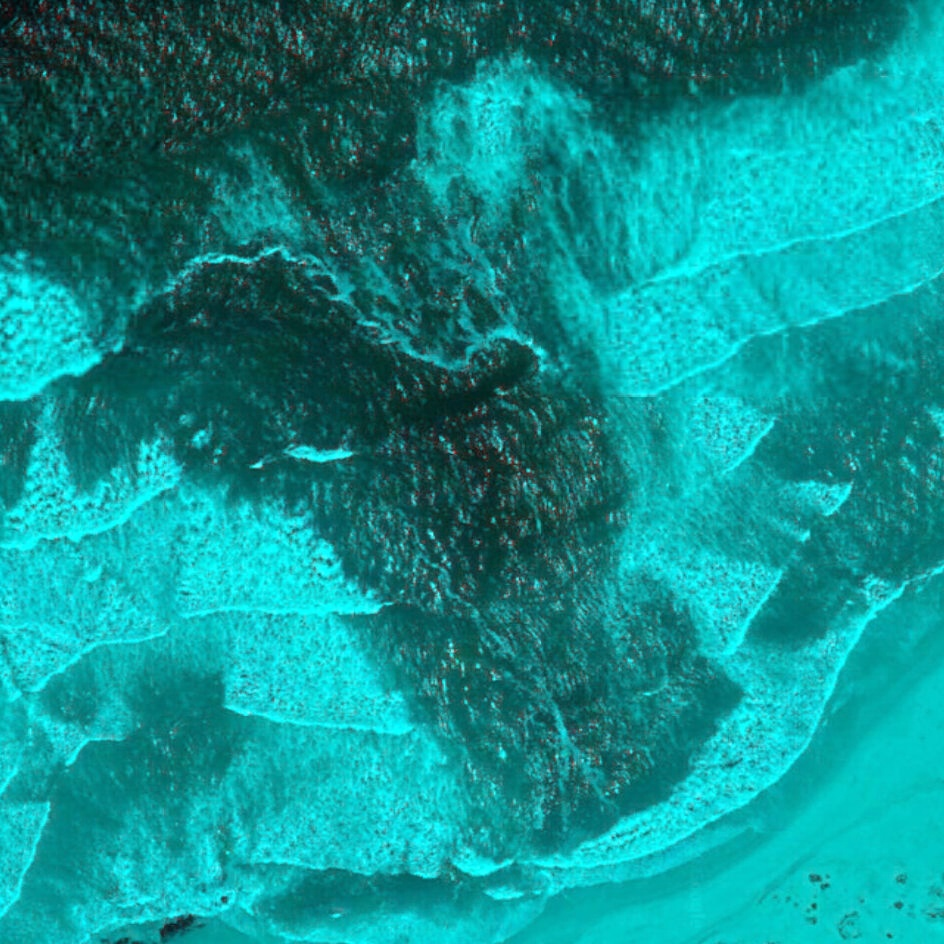rip_current: (53, 147, 721, 818)
